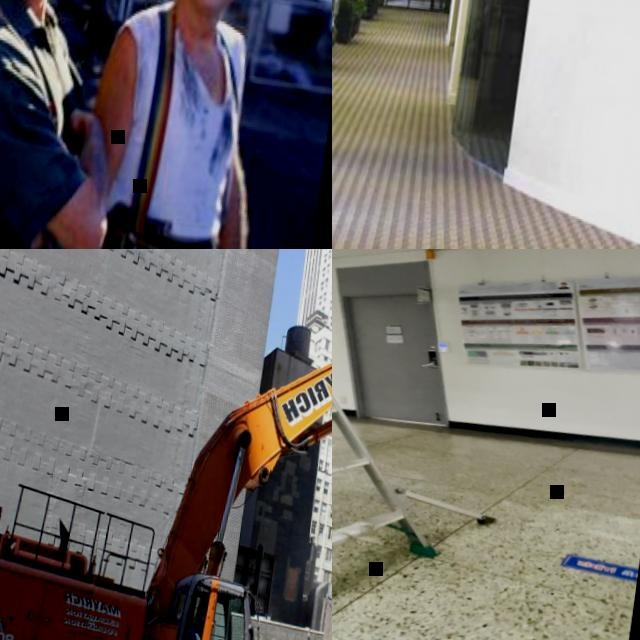NO-Mask: (180, 0, 243, 12)
NO-Safety Vest: (105, 5, 254, 247), (0, 1, 107, 249)
Person: (64, 0, 319, 249), (0, 0, 161, 249)
machinery: (0, 269, 332, 640)
